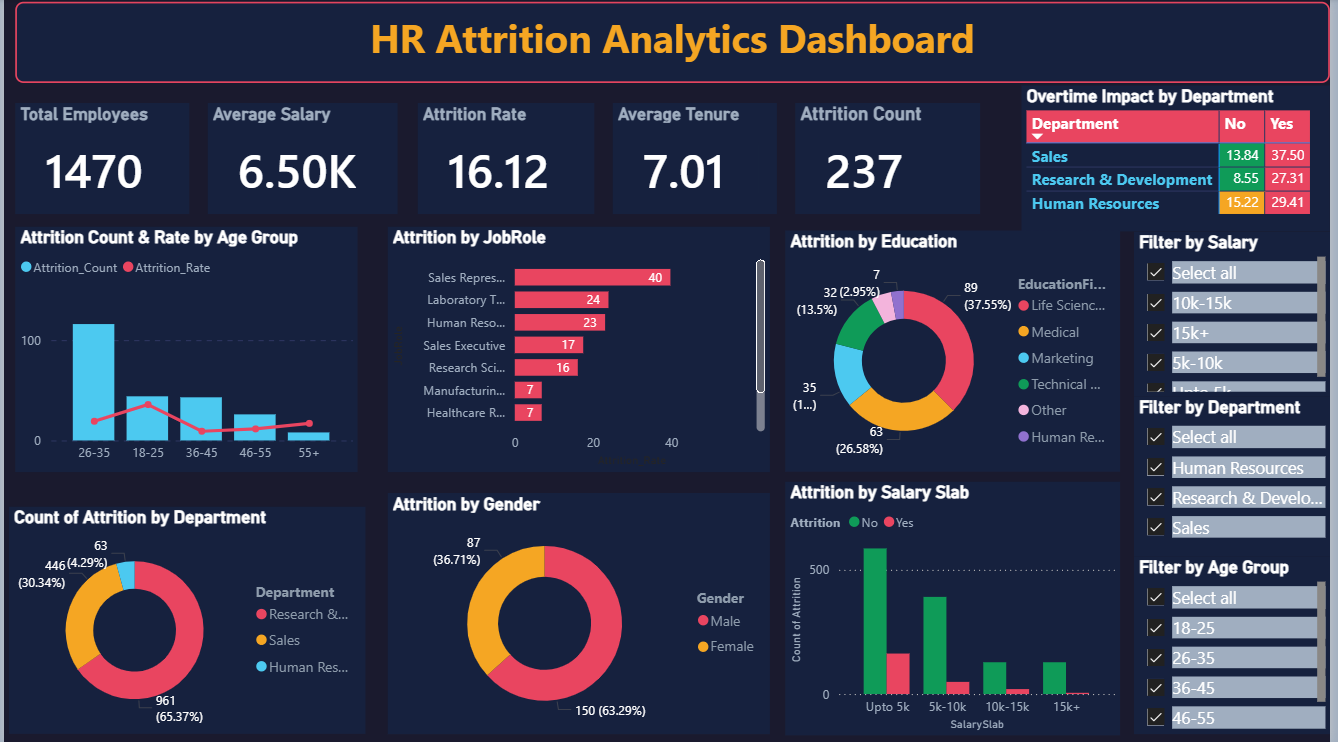

The page's visual inventory and layout, read from the dashboard file:
{"tool":"powerbi","page":{"name":"Page 1","canvas":[1280,720],"ordinal":0},"visuals":[{"type":"donutChart","fields":{"Category":["public hr_data.Department"],"Y":["CountNonNull(public hr_data.Attrition)"]},"box":[4.8,491,343.8,219.6],"z":0},{"type":"clusteredBarChart","title":"Attrition by JobRole","fields":{"Category":["public hr_data.JobRole"],"Y":["public hr_data.Attrition_Rate"]},"box":[370.4,220.8,369.2,236.5],"z":1000},{"type":"clusteredColumnChart","title":"Attrition by Salary Slab","fields":{"Category":["public hr_data.SalarySlab"],"Series":["public hr_data.Attrition"],"Y":["CountNonNull(public hr_data.Attrition)"]},"box":[754,466.9,323.3,244.9],"z":2000},{"type":"lineClusteredColumnComboChart","title":"Attrition Count & Rate by Age Group","fields":{"Category":["public hr_data.AgeGroup"],"Y":["public hr_data.Attrition_Count"],"Y2":["public hr_data.Attrition_Rate"]},"box":[10.9,220.8,330.6,236.5],"z":3000},{"type":"pivotTable","title":" Overtime Impact by Department  ","fields":{"Columns":["public hr_data.OverTime"],"Rows":["public hr_data.Department"],"Values":["public hr_data.Attrition_Rate"]},"box":[982,84.5,298,141.2],"z":4000},{"type":"slicer","title":"Filter by Department","fields":{"Values":["public hr_data.Department"]},"box":[1090.6,384.9,189.4,154.4],"z":5000},{"type":"slicer","title":"Filter by Age Group","fields":{"Values":["public hr_data.AgeGroup"]},"box":[1090.6,539.3,189.4,171.3],"z":6000},{"type":"slicer","title":"Filter by Salary ","fields":{"Values":["public hr_data.SalarySlab"]},"box":[1090.6,225.6,189.4,159.3],"z":7000},{"type":"textbox","box":[10.9,3.6,1269.2,78.4],"z":8000},{"type":"cardVisual","title":"Total Employees","fields":{"Data":["public hr_data.TotalEmployees"]},"box":[10.9,101.3,167.7,107.4],"z":9000},{"type":"cardVisual","title":"Average Salary","fields":{"Data":["public hr_data.Avg_Salary"]},"box":[197,101.3,183.4,107.4],"z":10000},{"type":"cardVisual","title":"Average Tenure","fields":{"Data":["public hr_data.Avg_Tenure"]},"box":[587.2,101.3,158,107.4],"z":11000},{"type":"cardVisual","title":"Attrition Rate","fields":{"Data":["public hr_data.Attrition_Rate"]},"box":[398.7,101.3,170.1,107.4],"z":12000},{"type":"donutChart","title":"Attrition by Education","fields":{"Category":["public hr_data.EducationField"],"Y":["public hr_data.Attrition_Count"]},"box":[754,224.4,323.3,232.8],"z":13000},{"type":"donutChart","title":"Attrition by Gender","fields":{"Category":["public hr_data.Gender"],"Y":["public hr_data.Attrition_Count"]},"box":[370.4,477.8,369.2,232.8],"z":14000},{"type":"cardVisual","title":"Attrition Count","fields":{"Data":["public hr_data.Attrition_Count"]},"box":[763.7,101.3,178.6,107.4],"z":15000}]}

Visuals, with their boxes in screenshot pixels (x1, y1, x2, y2), scaled from the page's 1280x720 canvas onto the 1338x742 screenshot:
donutChart - public hr_data.Department x CountNonNull(public hr_data.Attrition): [5,506,364,732]
"Attrition by JobRole" clusteredBarChart: [387,228,773,471]
"Attrition by Salary Slab" clusteredColumnChart: [788,481,1126,734]
"Attrition Count & Rate by Age Group" lineClusteredColumnComboChart: [11,228,357,471]
" Overtime Impact by Department  " pivotTable: [1026,87,1337,233]
"Filter by Department" slicer: [1140,397,1337,556]
"Filter by Age Group" slicer: [1140,556,1337,732]
"Filter by Salary " slicer: [1140,232,1337,397]
textbox: [11,4,1337,85]
"Total Employees" cardVisual: [11,104,187,215]
"Average Salary" cardVisual: [206,104,398,215]
"Average Tenure" cardVisual: [614,104,779,215]
"Attrition Rate" cardVisual: [417,104,595,215]
"Attrition by Education" donutChart: [788,231,1126,471]
"Attrition by Gender" donutChart: [387,492,773,732]
"Attrition Count" cardVisual: [798,104,985,215]
